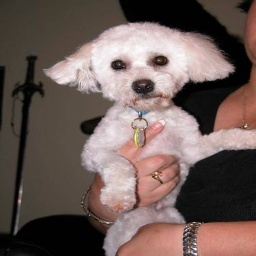dog: (47, 19, 256, 255)
